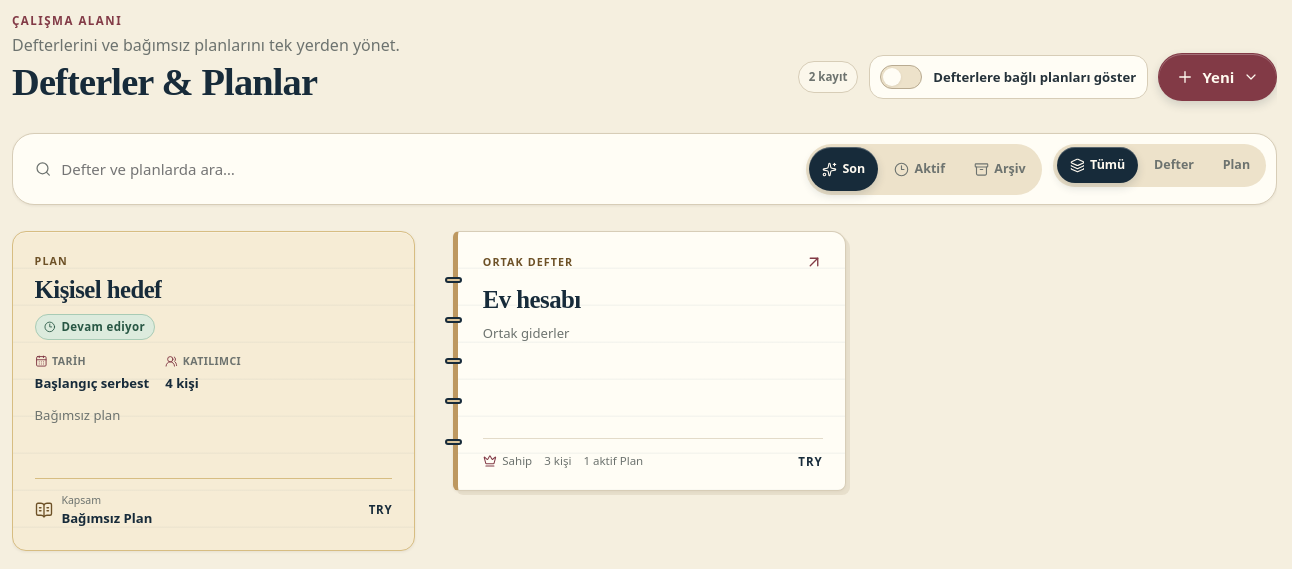
Scenario: Defterler & Planlar workspace › keeps the scope switch visible but disabled for the ledger type
Click the button "Defter": (1174, 165) 1141,147 -> 1207,183
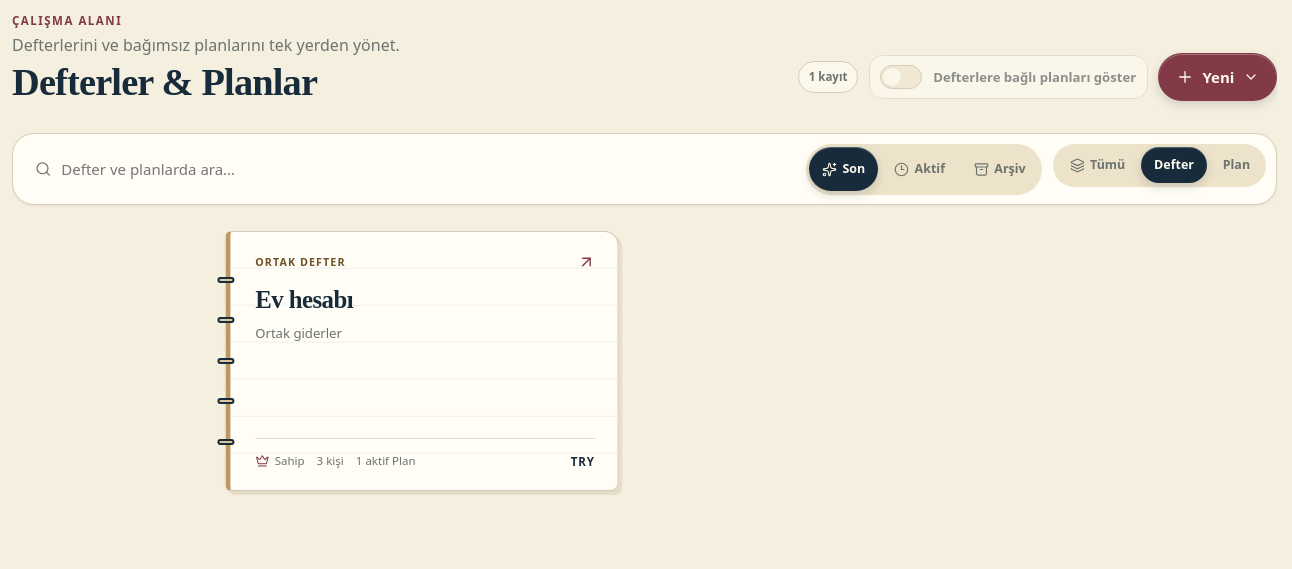
Check: the switch labelled "Defterlere bağlı planları göster" is disabled, box 869,55 -> 1148,99
